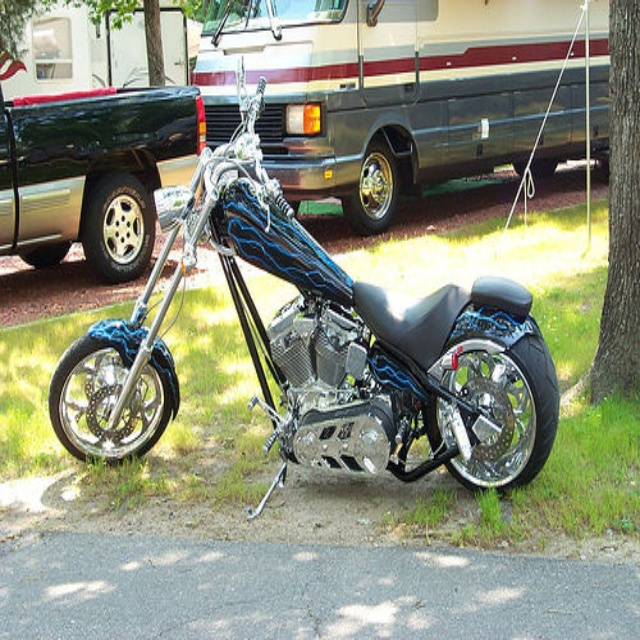Car: (1, 71, 205, 285)
Motorcycle: (47, 75, 559, 497)
Van: (195, 2, 609, 229)
